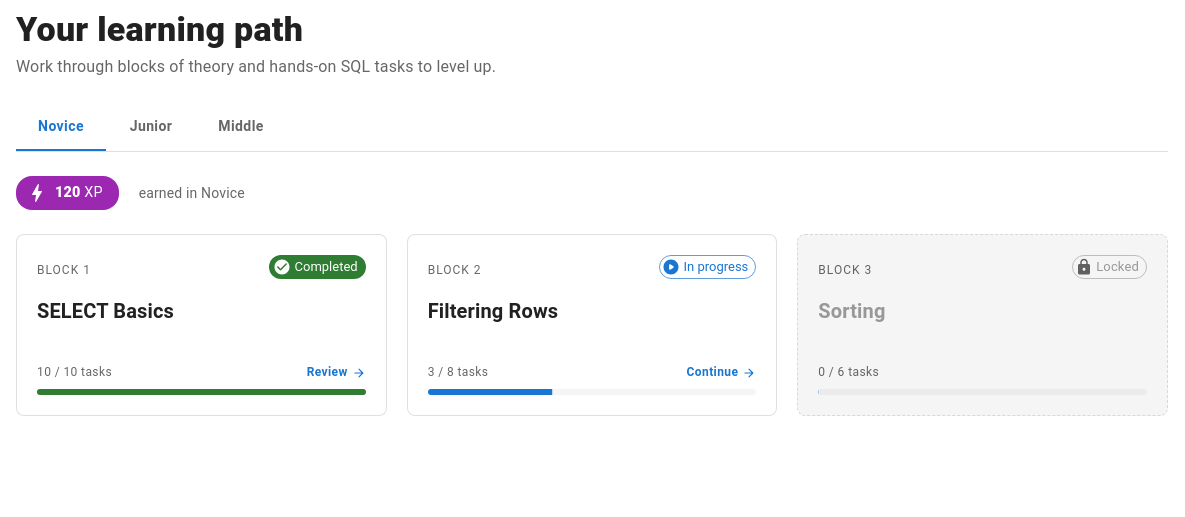
DashboardView › shows a coming-soon empty state for levels with no blocks
Expected: the heading "SELECT Basics" is shown, [37,299,174,323]
Click the tab "Junior".
click(151, 127)  # box [106,103,196,151]
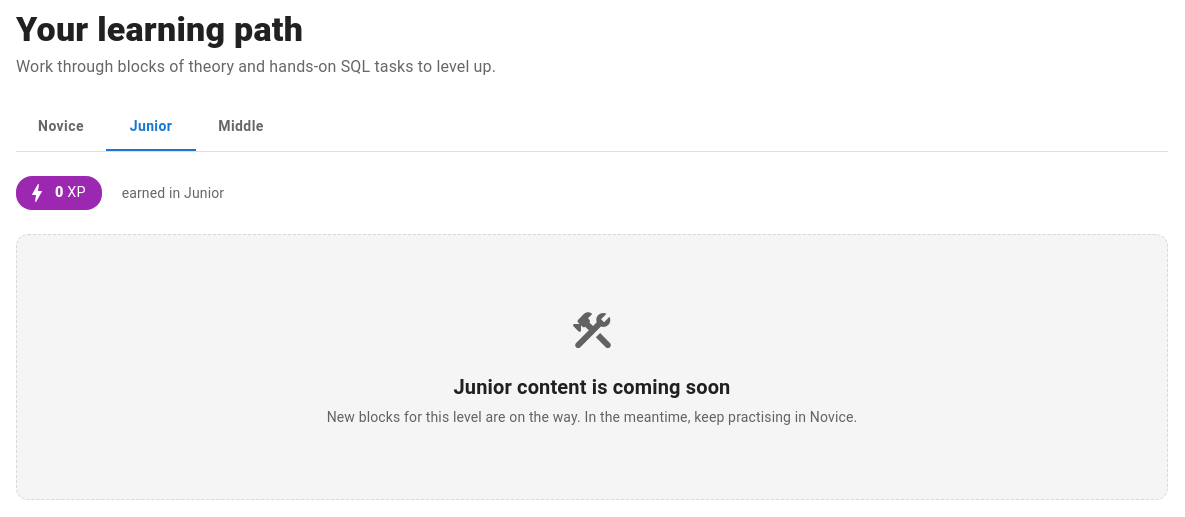
Expected: the heading "Junior content is coming soon" is shown, [454,375,730,399]
